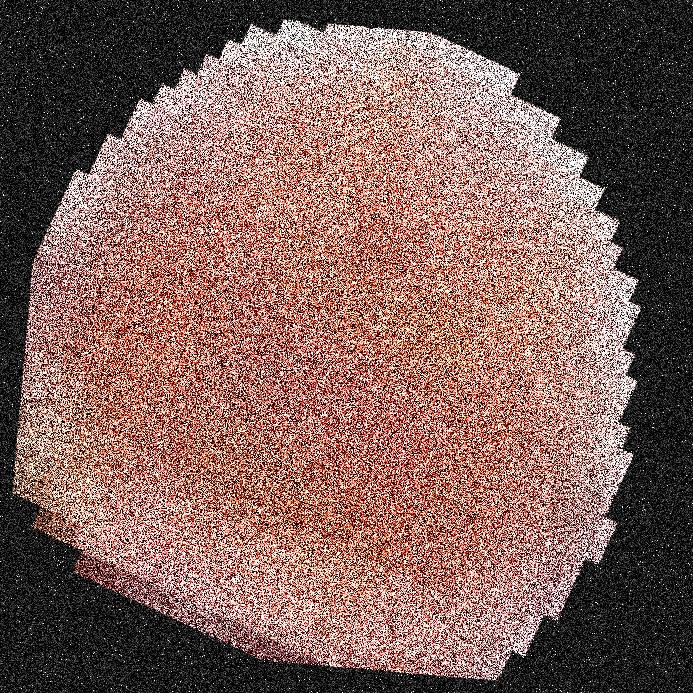Capacete: (78, 0, 616, 692)
